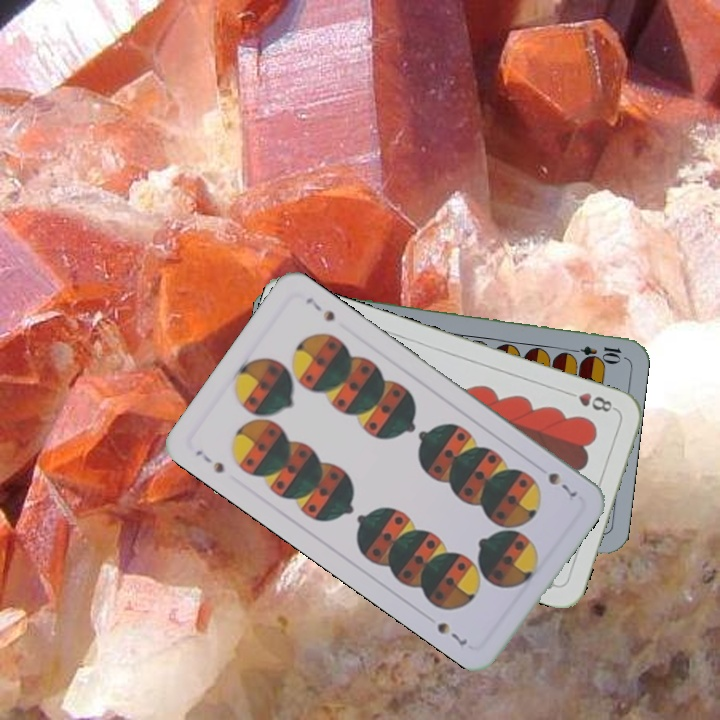E10: (565, 341, 624, 363)
H8: (561, 387, 619, 415)
S7: (543, 468, 579, 500), (191, 445, 227, 476)
